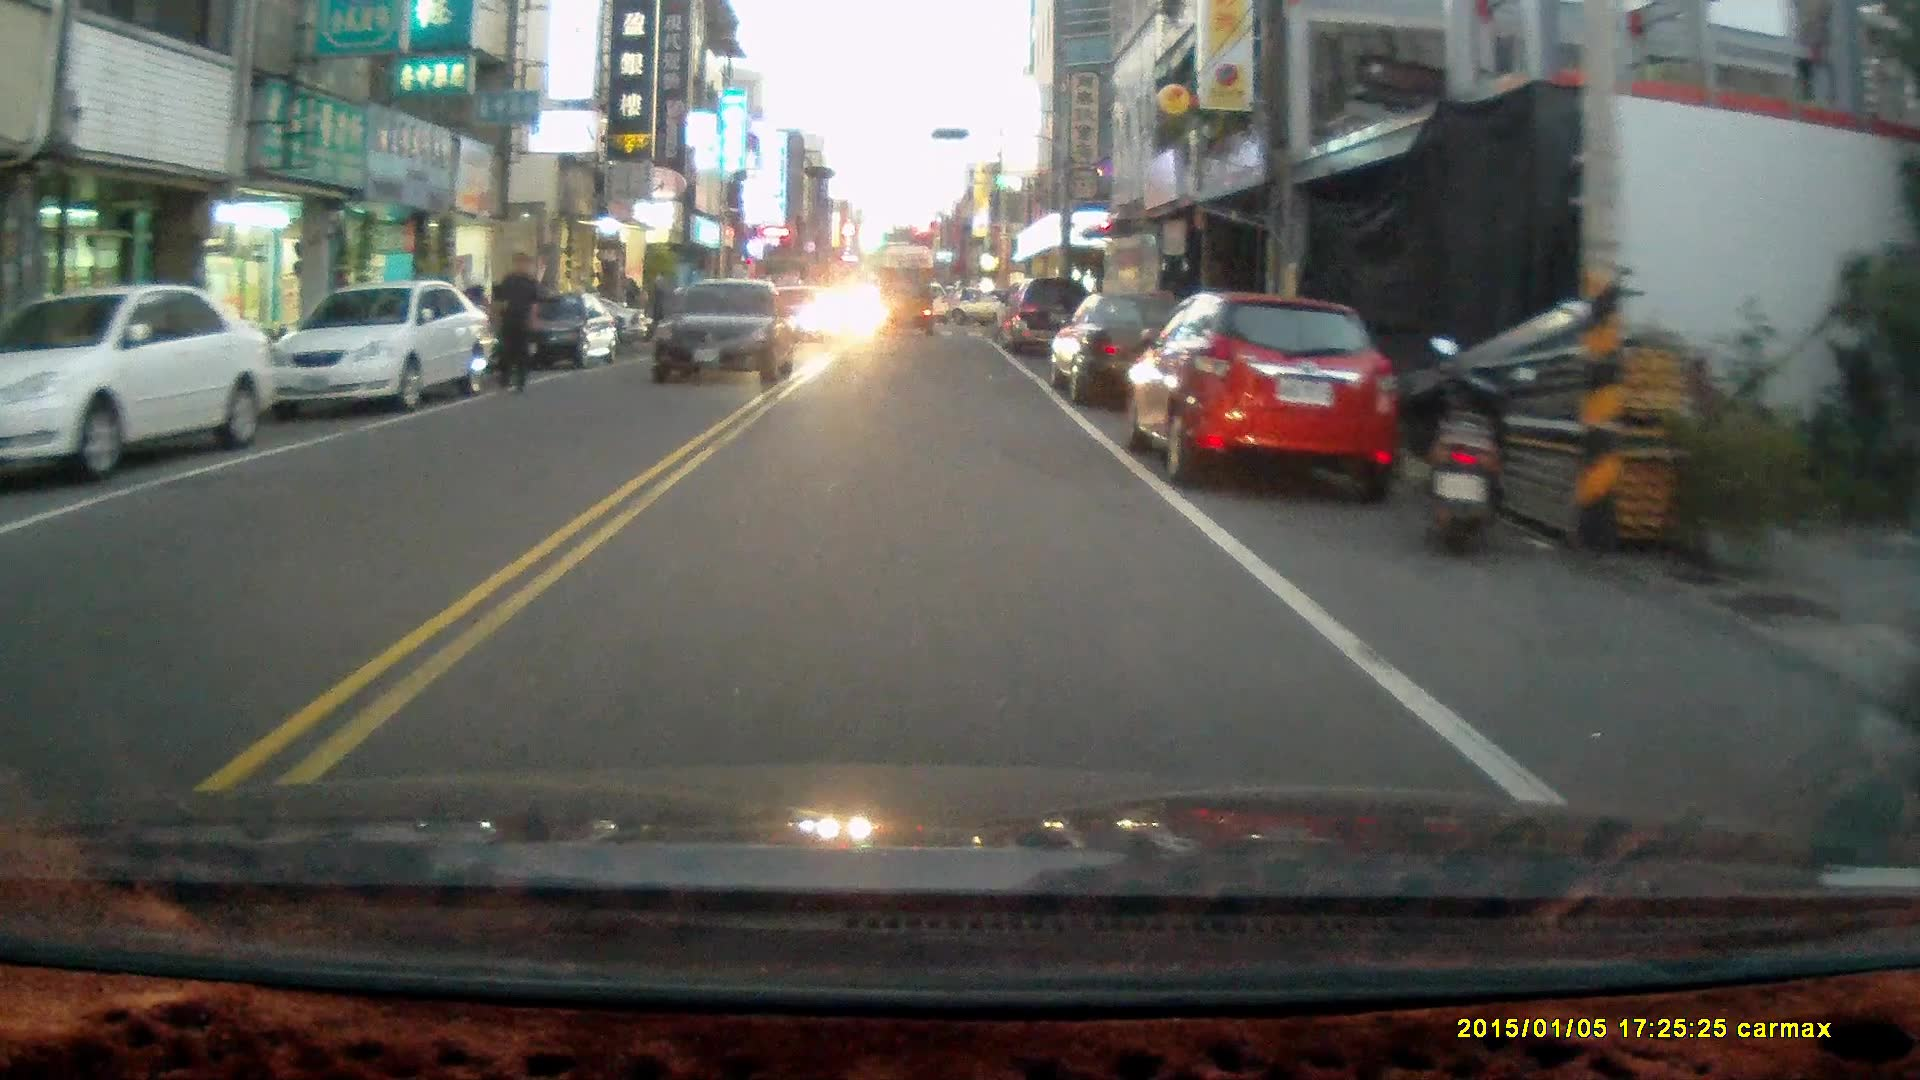pedestrian: (487, 254, 541, 397), (644, 270, 672, 348)
vehicle: (2, 286, 287, 485), (1130, 299, 1406, 502), (273, 287, 498, 421), (1046, 294, 1219, 412), (648, 278, 799, 392), (506, 291, 617, 378), (992, 277, 1101, 362), (873, 265, 937, 334)
